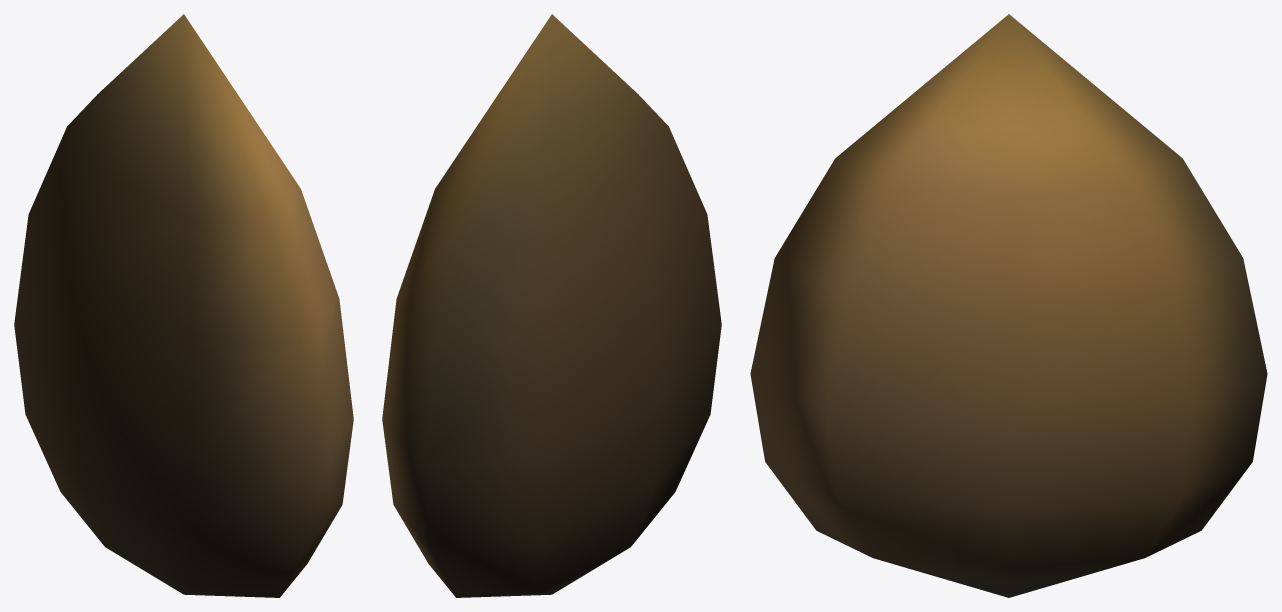
Rendered from Seed1.fbx.
3 views of the same model, side by side, from view 1: azimuth 30°, elevation 25°; view 2: azimuth 150°, elevation 25°; view 3: azimuth 270°, elevation 25° (orthographic).
Parts seen in each view (by area): view 1: Seed1; view 2: Seed1; view 3: Seed1.
Boxes of the visible parts, <box> form: Seed1: <box>14,14,353,597</box>; Seed1: <box>382,14,721,597</box>; Seed1: <box>750,14,1267,597</box>.
Bounding box in the file's own units: 12.91 × 32.09 × 25.76.
Materials: 1 (1 with a texture image).
